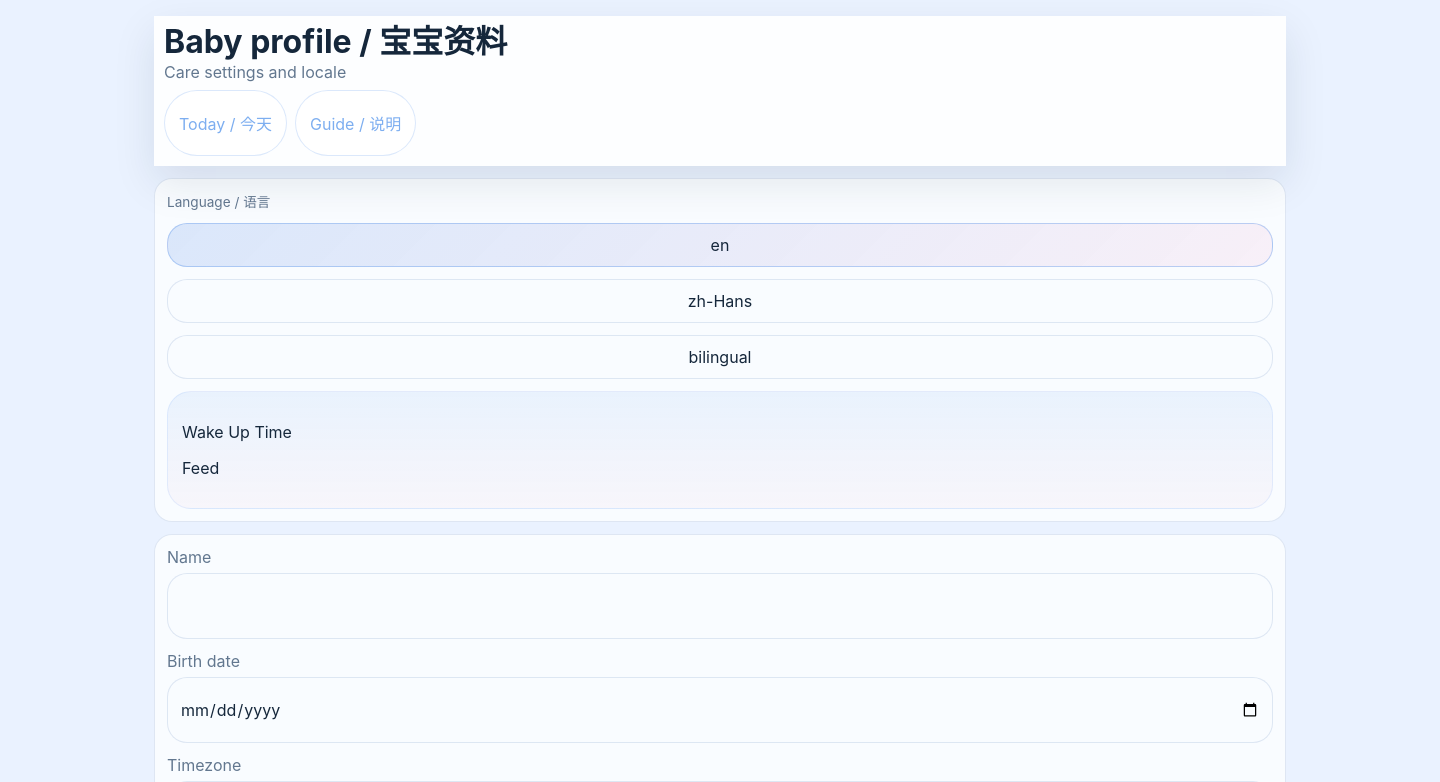
Test: locale persistence › persists bilingual mode across rerender
This screenshot has width=1440, height=782.
Click the button "bilingual" at (720, 357), box x1=167 y1=335 x2=1273 y2=379
(page scrolled)
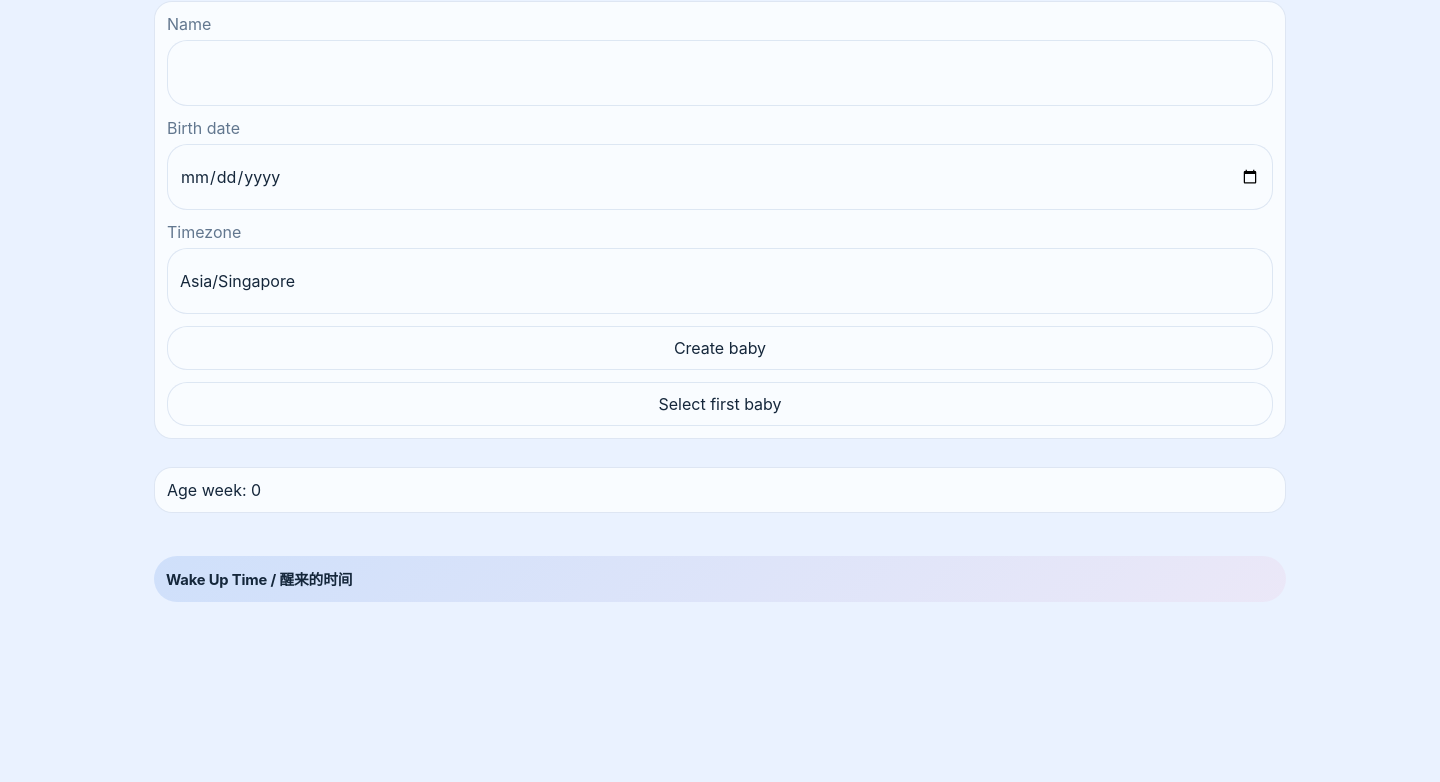
expect the text with test id "bilingual-label" shows "醒来的时间": met, box x1=166 y1=571 x2=352 y2=589
